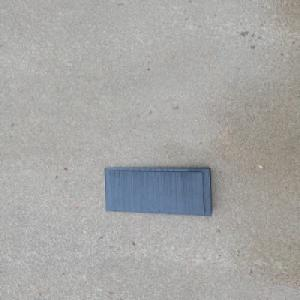PlasticPart: (103, 166, 214, 216)
